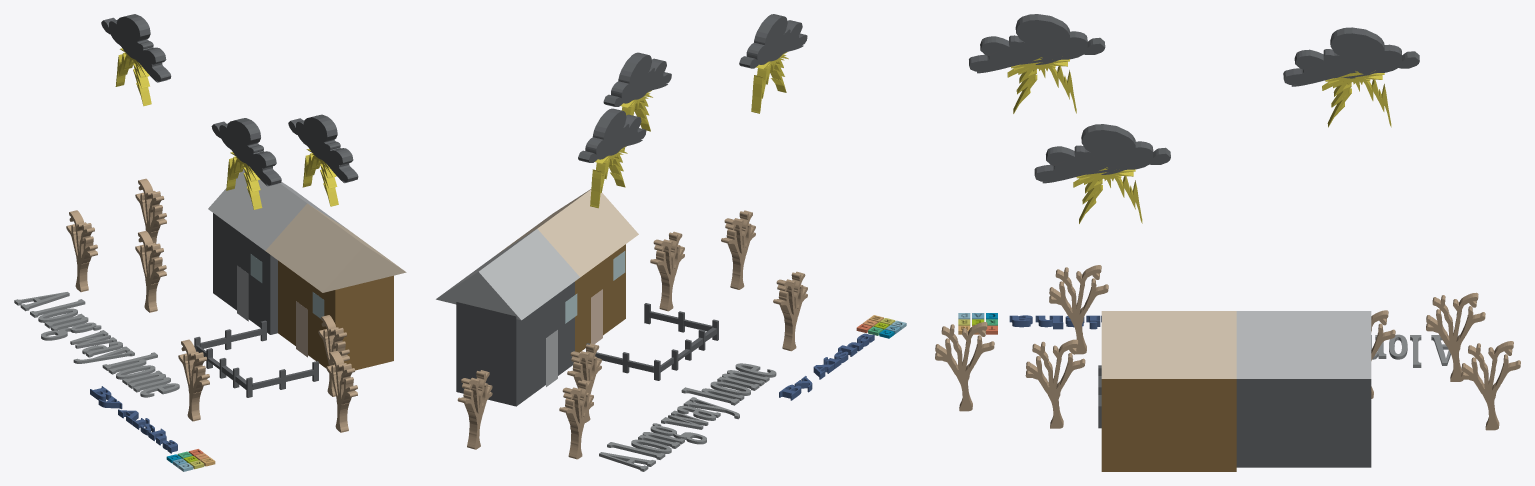
Rendered from asset.glb.
3 renders of one model, left to right at view 1: azimuth 30°, elevation 25°; view 2: azimuth 150°, elevation 25°; view 3: azimuth 270°, elevation 25°, orthographic. The views are drawn at different scales.
Parts seen in each view (by area): view 1: Mesh_Mesh_head_geo.001_lambert2SG.001; view 2: Mesh_Mesh_head_geo.001_lambert2SG.001; view 3: Mesh_Mesh_head_geo.001_lambert2SG.001.
Boxes of the visible parts, x1=… form: Mesh_Mesh_head_geo.001_lambert2SG.001: x1=14, y1=14, x2=406, y2=471; Mesh_Mesh_head_geo.001_lambert2SG.001: x1=436, y1=14, x2=906, y2=471; Mesh_Mesh_head_geo.001_lambert2SG.001: x1=935, y1=14, x2=1520, y2=471.
Size of the model in its own units: 112 by 113 by 169.
